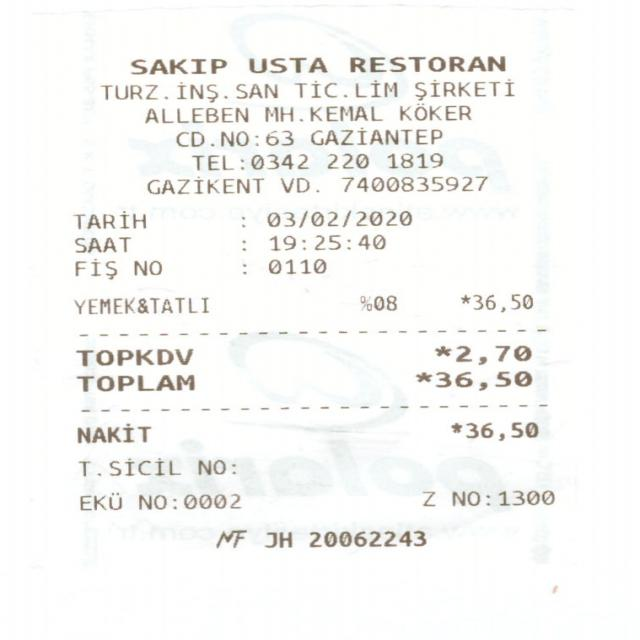text: (265, 209, 413, 231), (342, 174, 486, 192), (348, 55, 503, 71), (78, 455, 187, 477), (309, 126, 441, 144), (412, 77, 513, 99), (146, 175, 262, 194), (72, 297, 206, 313), (74, 348, 191, 366), (416, 371, 531, 389), (448, 489, 556, 508), (434, 343, 530, 364), (175, 129, 292, 146), (191, 153, 307, 170), (268, 233, 384, 250), (76, 373, 191, 390), (263, 105, 381, 121), (309, 530, 425, 545), (136, 493, 240, 509), (72, 210, 146, 231), (450, 422, 536, 440), (144, 107, 246, 122), (77, 422, 149, 442), (129, 58, 224, 73), (398, 102, 471, 119), (459, 294, 530, 311), (248, 57, 325, 72), (176, 80, 227, 101), (99, 83, 166, 98), (71, 258, 115, 280), (264, 258, 324, 274), (385, 152, 441, 168), (76, 492, 121, 511), (353, 79, 397, 98), (74, 237, 128, 251), (292, 80, 336, 97), (325, 152, 366, 168), (235, 82, 277, 97), (131, 259, 162, 277), (197, 459, 234, 474), (280, 177, 317, 191), (360, 294, 394, 309), (215, 530, 245, 547), (264, 532, 290, 546), (418, 490, 436, 507), (238, 238, 248, 252), (236, 214, 245, 229), (239, 262, 248, 276)
